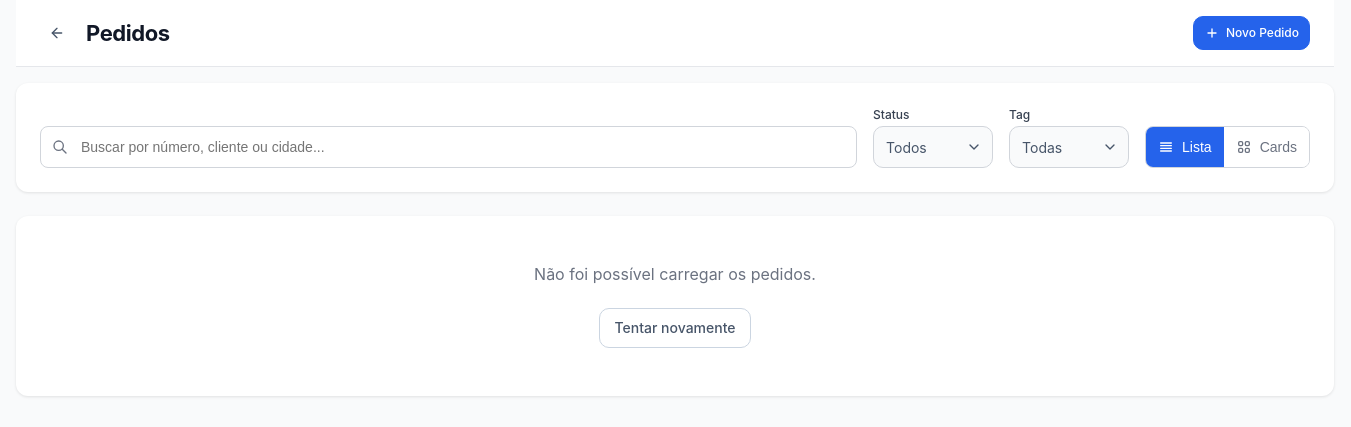
Test: Order directory navigation › offers retry for a request error instead of presenting an empty directory
Expected: the message "Não foi possível carregar os pedidos. Tentar novamente" is shown, x1=16 y1=216 x2=1334 y2=396
Click the button "Tentar novamente" at (675, 328), box x1=600 y1=308 x2=751 y2=348
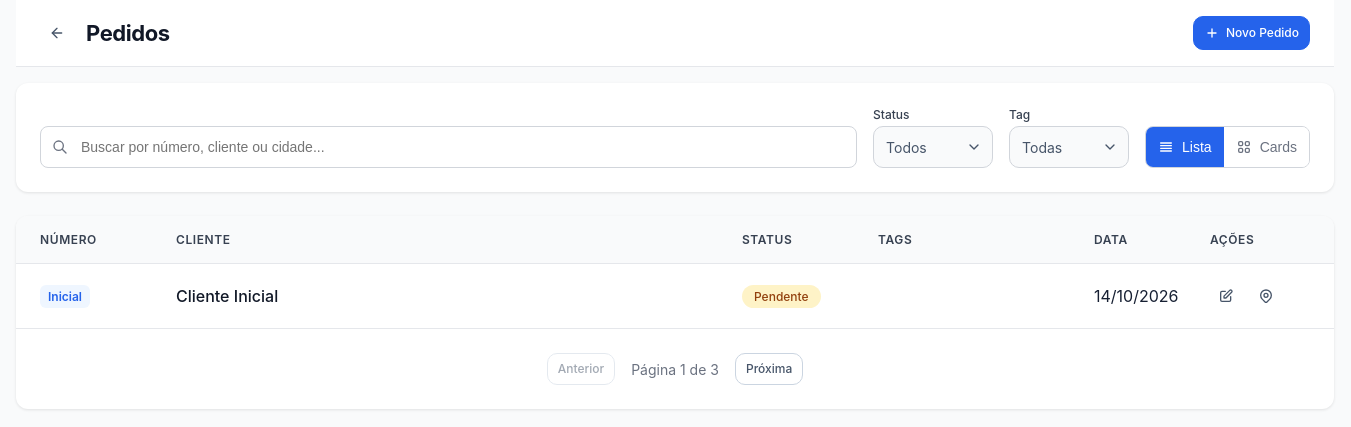
Now the message "Não foi possível carregar os pedidos. Tentar novamente" is gone
